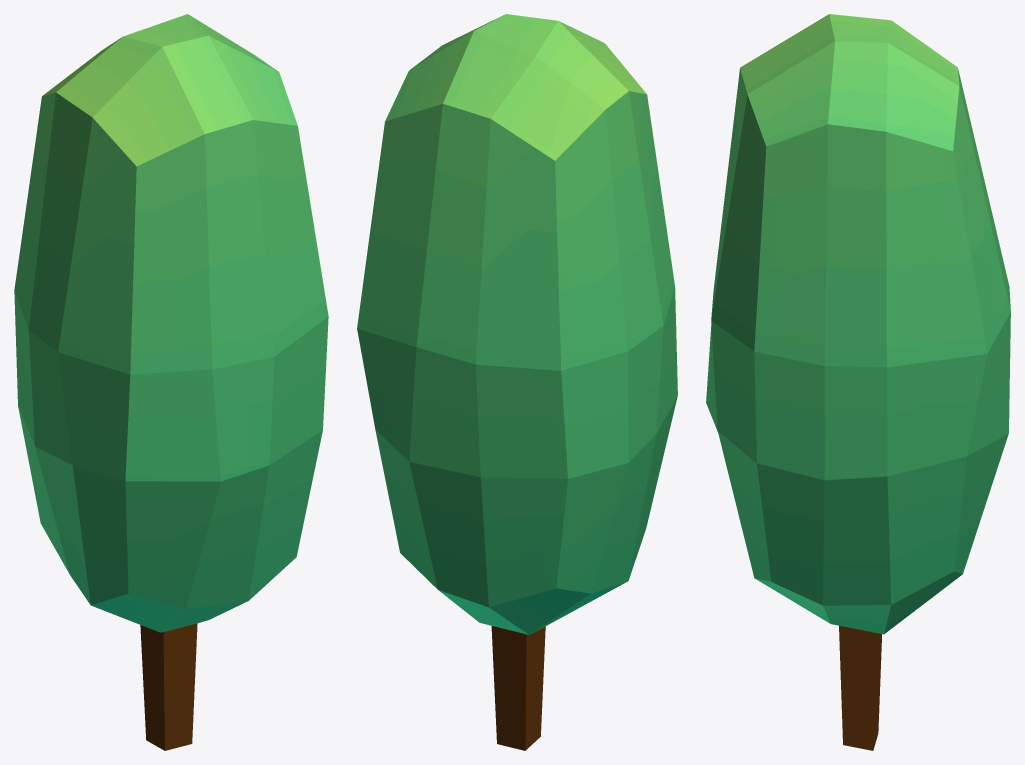
The model's file is tree.fbx.
3 views of the same model, side by side, from view 1: azimuth 30°, elevation 25°; view 2: azimuth 150°, elevation 25°; view 3: azimuth 270°, elevation 25° (orthographic).
Visible parts, largest first — view 1: Cube; view 2: Cube; view 3: Cube.
Boxes of the visible parts, left/top/right/bottom form: Cube: left=14, top=14, right=328, bottom=750; Cube: left=357, top=14, right=677, bottom=750; Cube: left=706, top=14, right=1010, bottom=750.
Bounding box in the file's own units: 402 × 1059 × 408.
